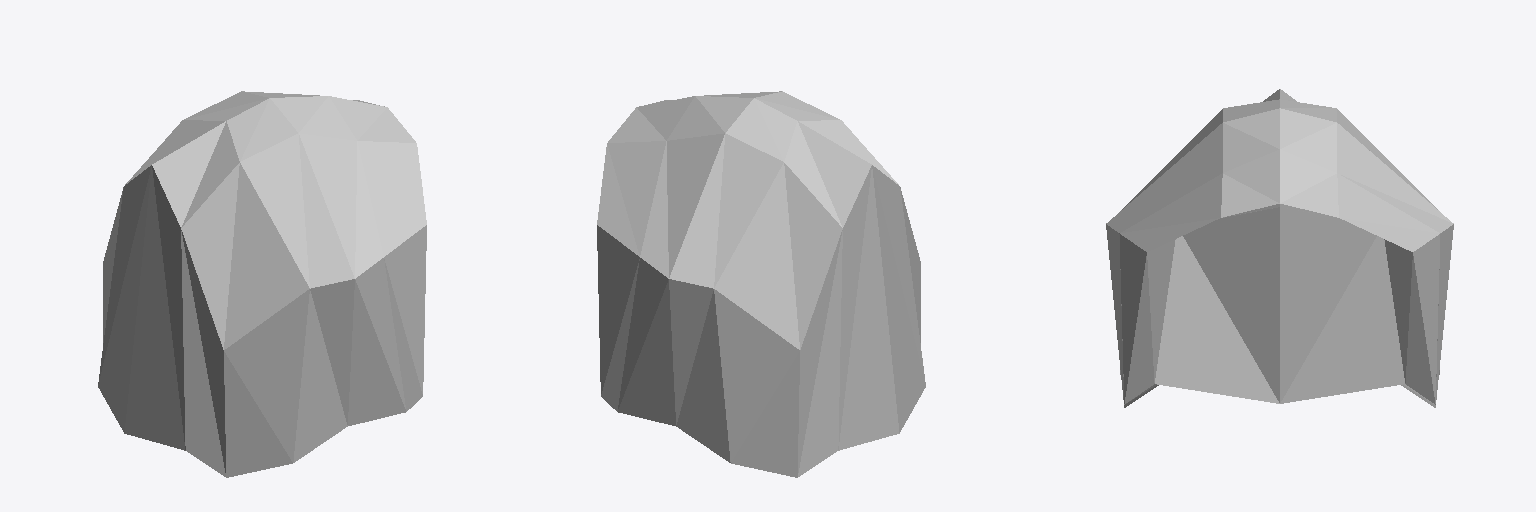
Rendered from sombreroMuerte.obj.
3 views of the same model, side by side, from view 1: azimuth 30°, elevation 25°; view 2: azimuth 150°, elevation 25°; view 3: azimuth 270°, elevation 25° (orthographic).
Visible parts, largest first — view 1: Cube.001; view 2: Cube.001; view 3: Cube.001.
Part boxes in pixels (left/top/right/bottom): Cube.001: left=98, top=91, right=426, bottom=477; Cube.001: left=597, top=91, right=925, bottom=477; Cube.001: left=1106, top=89, right=1453, bottom=407.
Size of the model in its own units: 2.24 by 2.51 by 2.56.